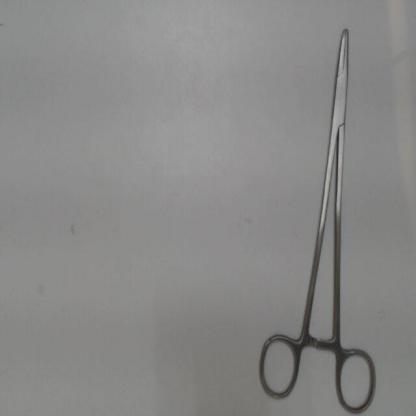8 Mayo Needle Holder: (250, 18, 382, 414)
